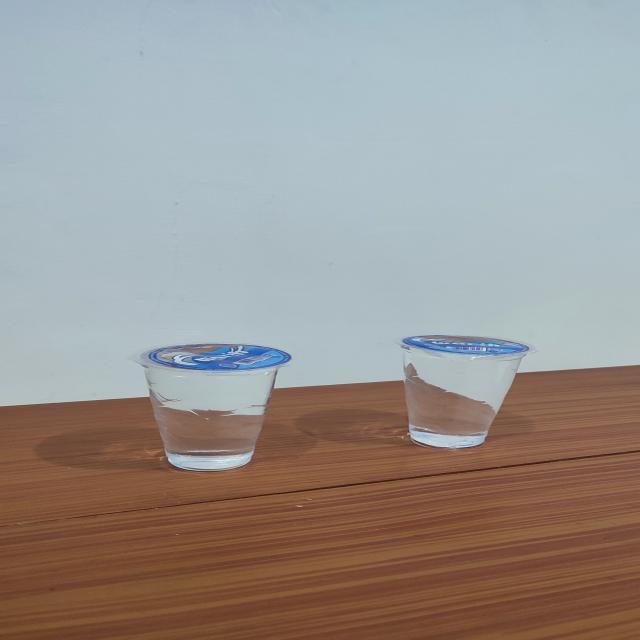air gelas: (128, 332, 300, 476), (397, 325, 537, 449)
